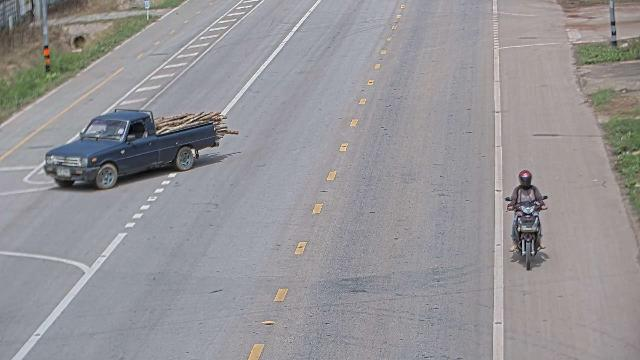motorcycle: (502, 184, 551, 271)
pickup-truck: (42, 108, 219, 190)
